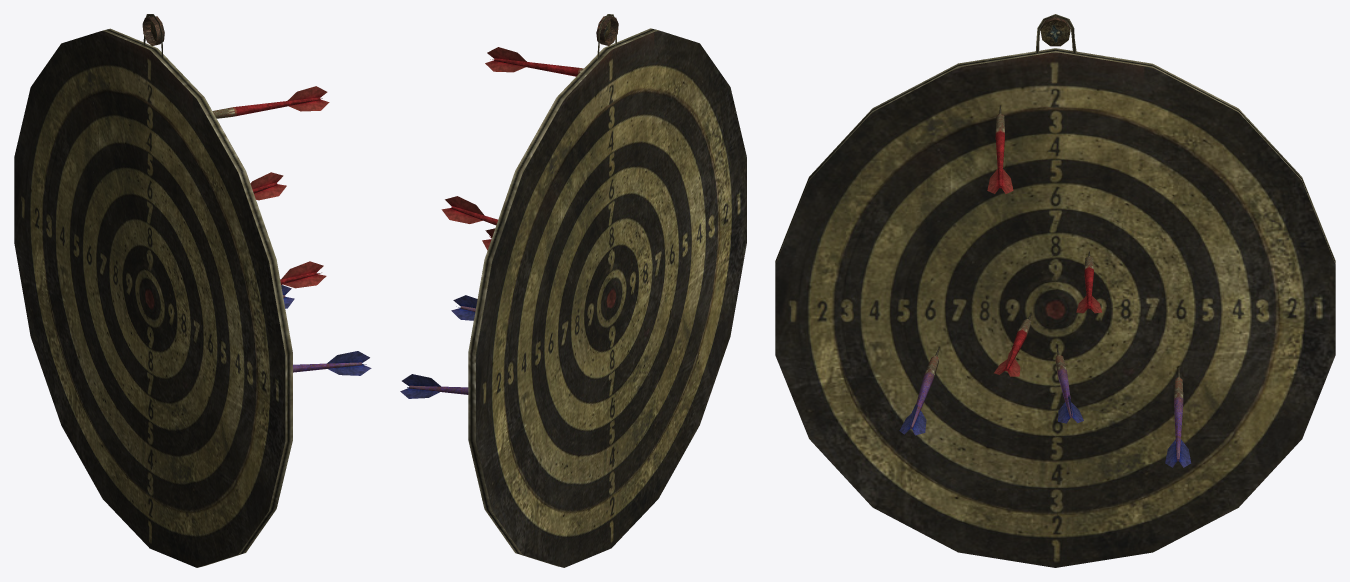
File: target_darts.FBX
3 renders of one model, left to right at view 1: azimuth 30°, elevation 25°; view 2: azimuth 150°, elevation 25°; view 3: azimuth 270°, elevation 25°, orthographic. The views are drawn at different scales.
Parts seen in each view (by area): view 1: target_darts; view 2: target_darts; view 3: target_darts.
Part boxes in pixels (<box>): target_darts: <box>14,14,371,567</box>; target_darts: <box>400,14,746,567</box>; target_darts: <box>775,14,1335,567</box>.
Bounding box in the file's own units: 0.1621 × 0.5415 × 0.4984.
